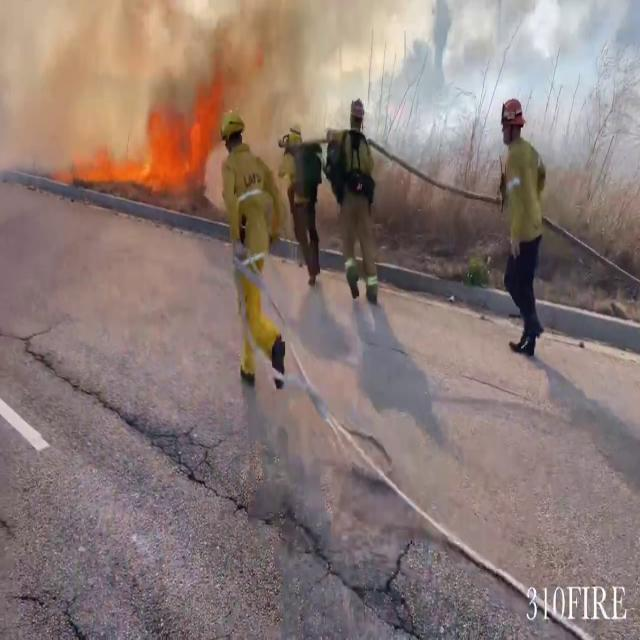Fire: (76, 88, 226, 199)
Smoke: (0, 0, 331, 164)
